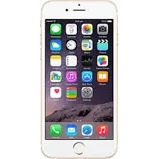iphone: (38, 1, 118, 159)
iphone6: (38, 1, 118, 159)
